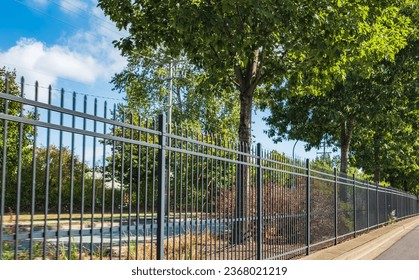Fence: (8, 139, 316, 256)
Tree: (109, 3, 419, 175)
